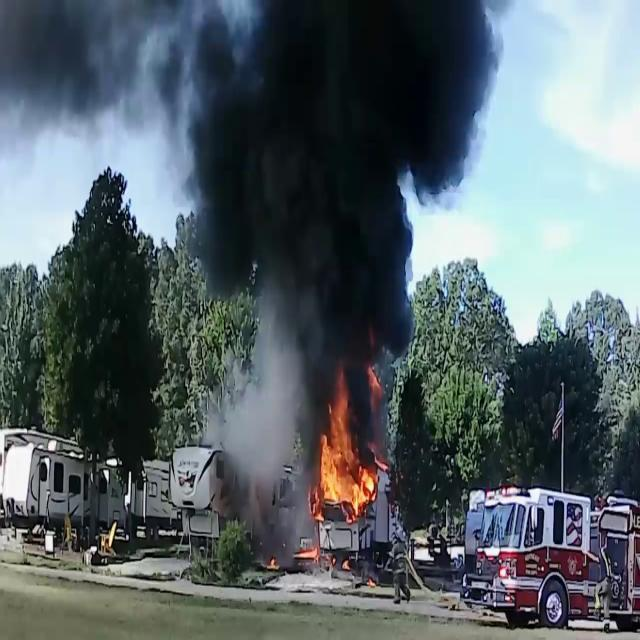Fire: (312, 382, 381, 524)
Smoke: (176, 1, 494, 401), (0, 1, 206, 151), (211, 330, 309, 554)
